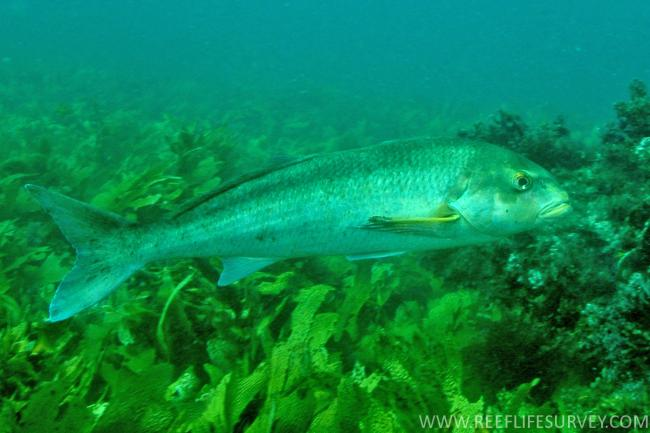fish: (25, 136, 572, 322)
